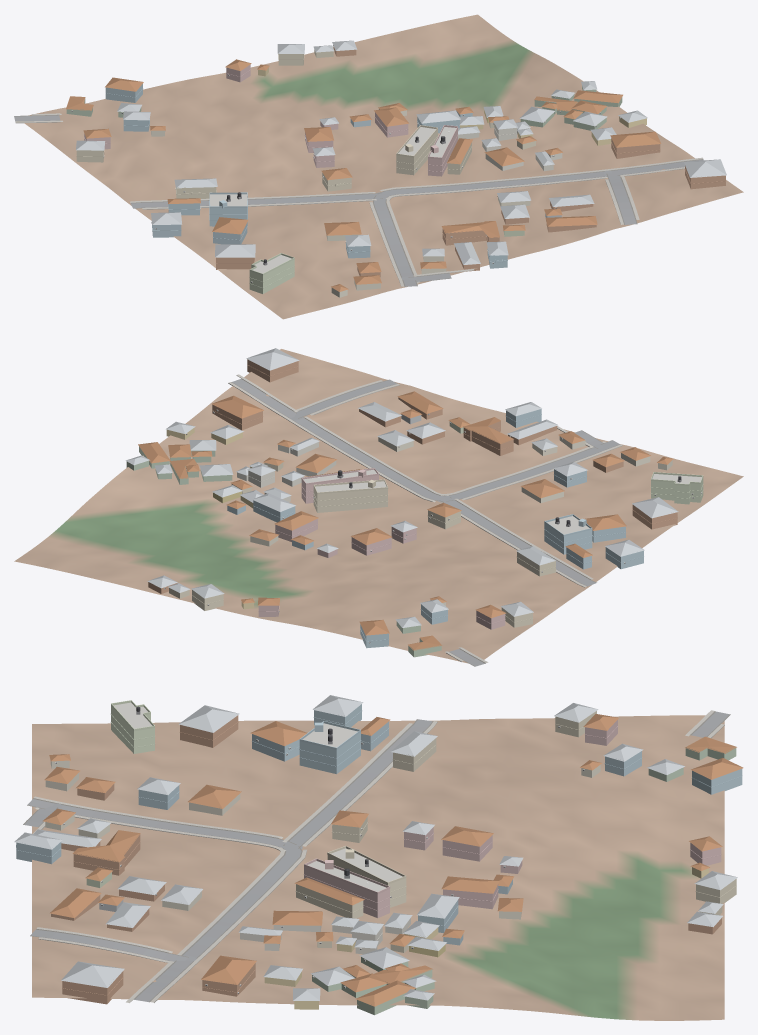
3 views of the same model, one above another, from view 1: azimuth 30°, elevation 25°; view 2: azimuth 150°, elevation 25°; view 3: azimuth 270°, elevation 25° (orthographic). The views are drawn at different scales.
Visible parts, largest first — view 1: Terrain-col, Buildings-col, Roads-col, Sidewalks-col, Details; view 2: Terrain-col, Buildings-col, Roads-col, Sidewalks-col, Details; view 3: Terrain-col, Buildings-col, Roads-col, Sidewalks-col, Details.
Part boxes in pixels (x1,y1,x2,y2): Terrain-col: (24,14,743,319); Buildings-col: (66,40,726,297); Roads-col: (14,115,703,286); Sidewalks-col: (15,113,703,286); Details: (71,45,725,288); Terrain-col: (14,349,743,663); Buildings-col: (125,348,703,657); Roads-col: (231,378,620,666); Sidewalks-col: (228,374,622,663); Details: (164,364,703,643); Terrain-col: (32,715,724,1020); Buildings-col: (14,695,743,1015); Roads-col: (23,711,730,1002); Sidewalks-col: (33,710,724,1002); Details: (16,700,742,995).
Bounding box in the file's own units: 271 × 18.72 × 270.
